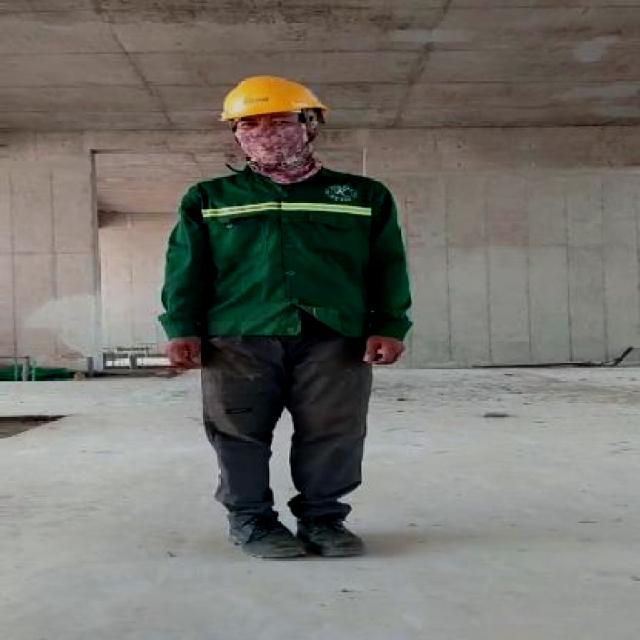face_mask: (232, 116, 312, 167)
hand_noglove: (361, 332, 410, 372), (160, 334, 205, 374)
head_helmet: (215, 76, 332, 121)
person: (155, 47, 420, 582)
shoes: (219, 499, 312, 567), (289, 498, 365, 560)
